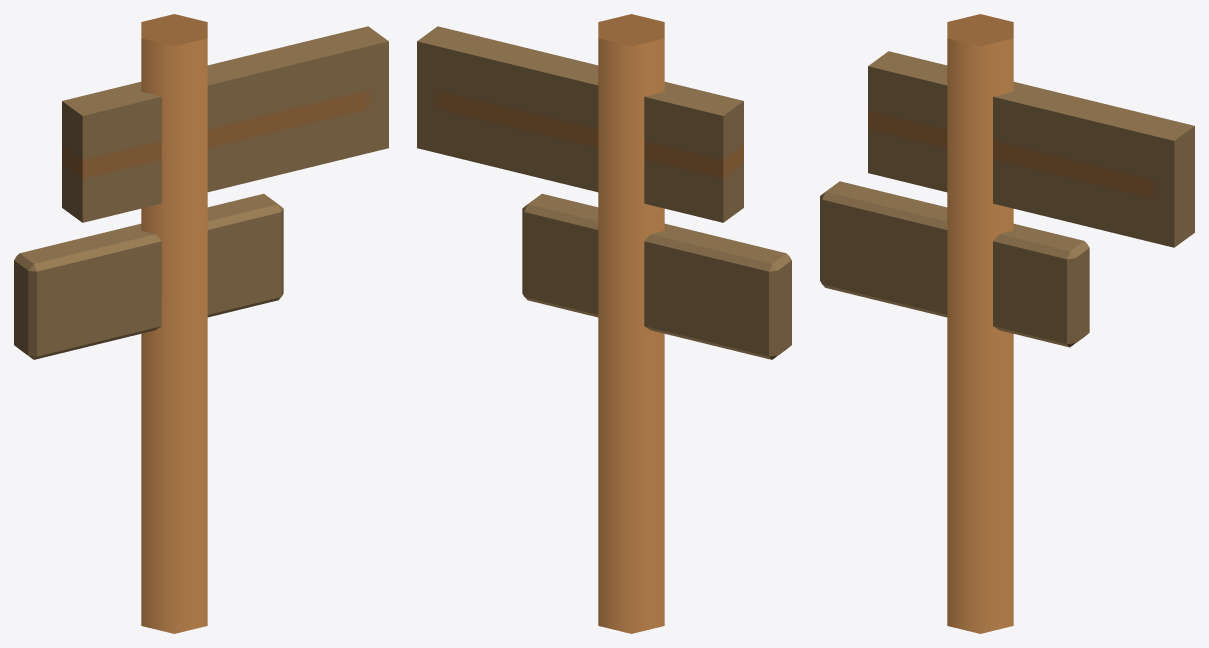
The model's file is prop_signpost_442e.glb.
The picture shows the model from 3 angles, left to right: view 1: azimuth 30°, elevation 25°; view 2: azimuth 150°, elevation 25°; view 3: azimuth 330°, elevation 25°; orthographic projection.
Parts seen in each view (by area): view 1: prop_signpost_442e; view 2: prop_signpost_442e; view 3: prop_signpost_442e.
Part boxes in pixels (bbox=[...]): prop_signpost_442e: bbox=[14, 14, 388, 633]; prop_signpost_442e: bbox=[417, 14, 791, 633]; prop_signpost_442e: bbox=[820, 14, 1194, 633].
Bounding box in the file's own units: 0.6188 × 0.9723 × 0.0996.
1 material, 1 textured.
